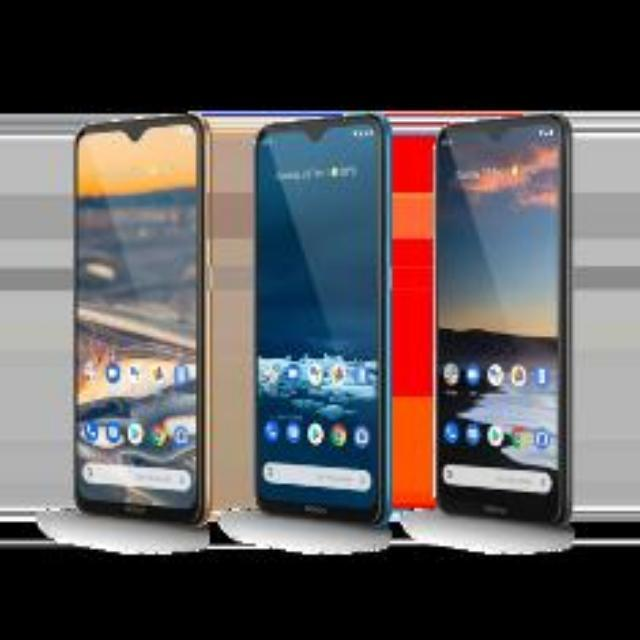PhoneUse: (435, 114, 573, 530), (258, 118, 396, 526), (76, 114, 212, 520)
